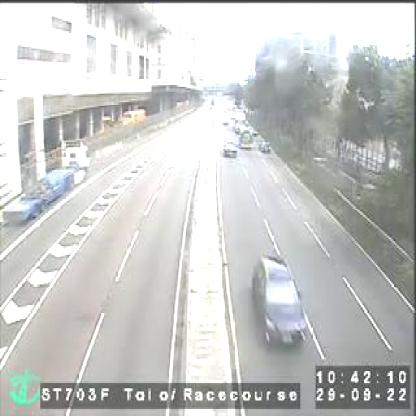Car: (245, 248, 310, 350), (217, 139, 238, 163), (256, 137, 273, 154)
Minibus: (236, 125, 254, 152)
Truck: (2, 138, 89, 224), (230, 104, 248, 132)
